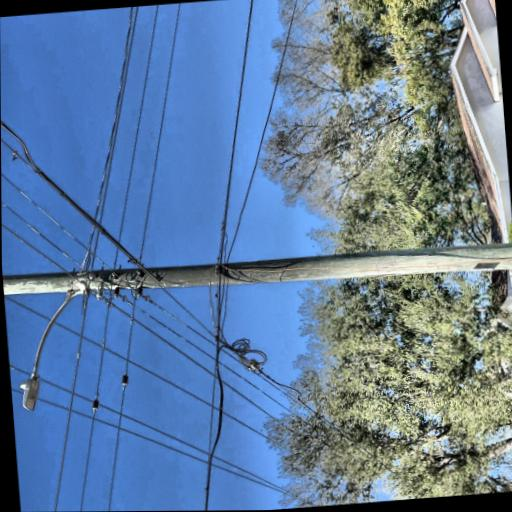pole: (65, 7, 161, 512)
street light: (1, 131, 103, 222)
